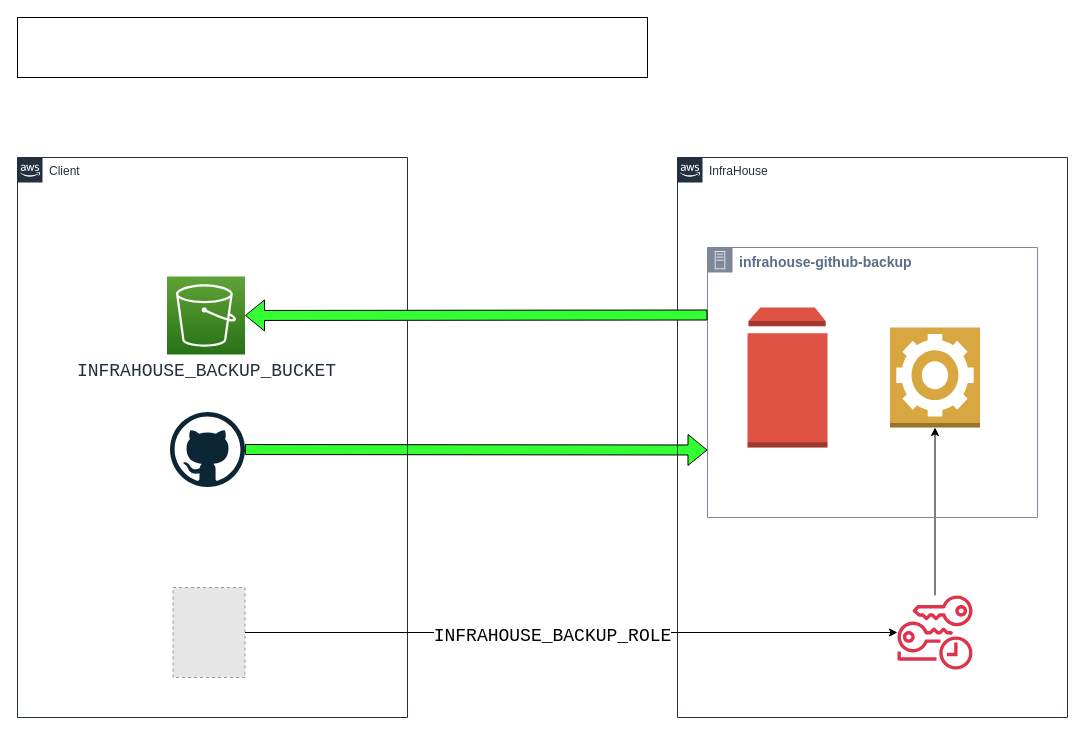
Image size: 1085x735. Some labels were removed from this diagram. Grey dashed boxes stand in for pictures. The centre of each missing label's shape, as x and y in pixels:
"RAM mount" belongs at point (787, 377).
"terraform-aws-github-backup-configuration" belongs at point (332, 47).
